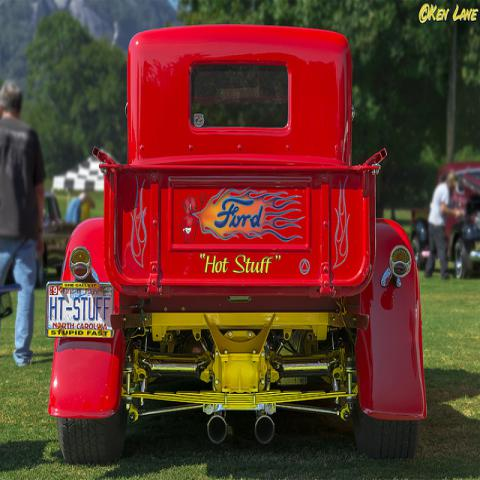car: (412, 158, 479, 280)
truck: (45, 25, 428, 460)
